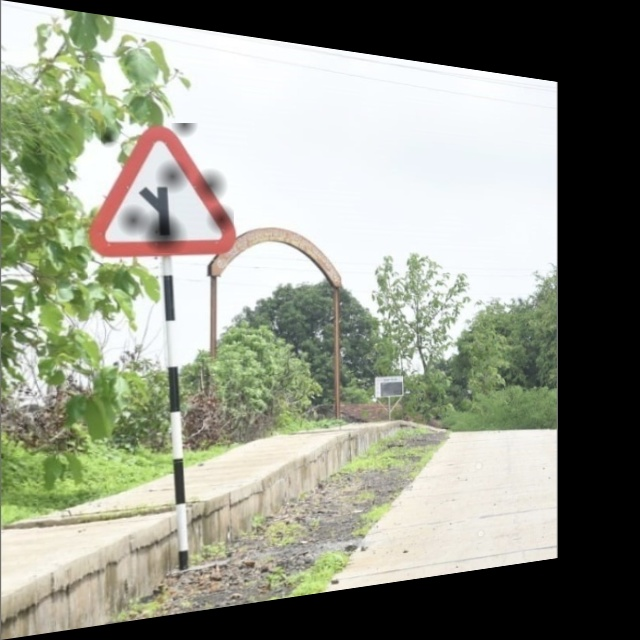Y_Intersection: (101, 123, 234, 253)
